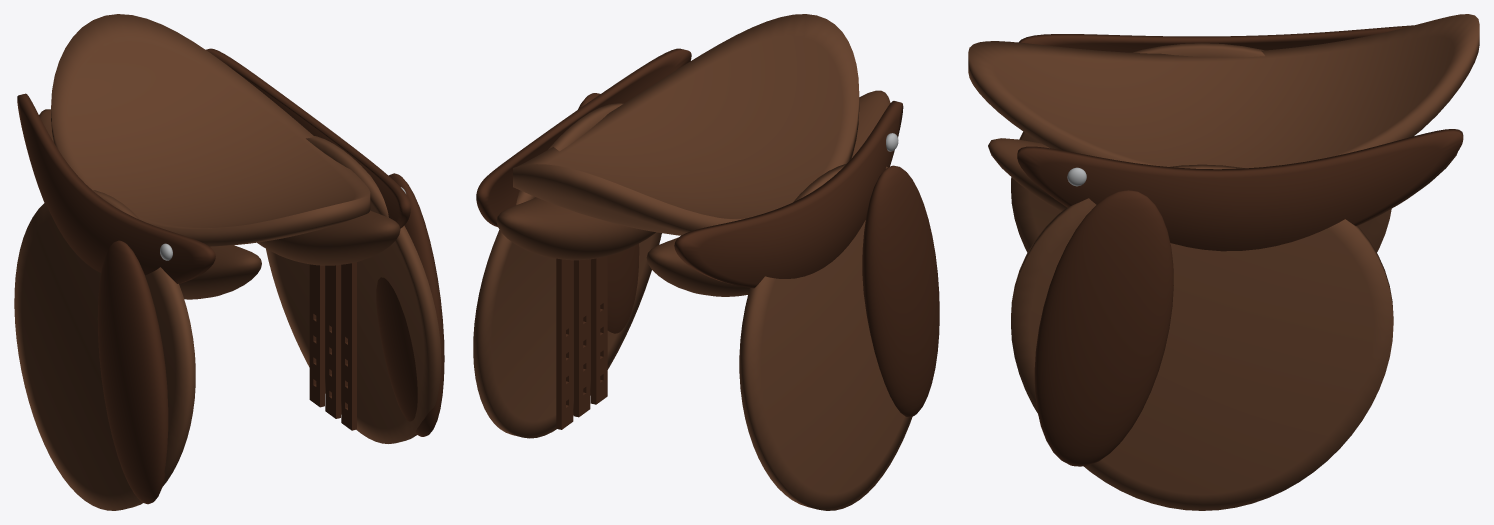
3 views of the same model, side by side, from view 1: azimuth 30°, elevation 25°; view 2: azimuth 150°, elevation 25°; view 3: azimuth 270°, elevation 25° (orthographic). The views are drawn at different scales.
Parts seen in each view (by area): view 1: Curved padded seat with pommel and cantle, Hanging saddle flap -1, Hanging saddle flap 1, Raised front knee roll -1, Upper leather skirt -1, Raised front knee roll 1, Underside padded panel 1, Upper leather skirt 1, Underside padded panel -1, Girth billet 1 0, Girth billet 1 1, Girth billet 1 2; view 2: Curved padded seat with pommel and cantle, Hanging saddle flap -1, Hanging saddle flap 1, Raised front knee roll -1, Upper leather skirt -1, Underside padded panel 1, Upper leather skirt 1, Underside padded panel -1, Girth billet 1 2, Girth billet 1 1, Girth billet 1 0, Raised front knee roll 1; view 3: Hanging saddle flap 1, Curved padded seat with pommel and cantle, Raised front knee roll 1, Upper leather skirt 1, Upper leather skirt -1, Hanging saddle flap -1, Underside padded panel 1.
Part boxes in pixels (box(x1,y1,x2,y2)): Curved padded seat with pommel and cantle: box(51, 14, 370, 246); Hanging saddle flap -1: box(14, 190, 195, 510); Hanging saddle flap 1: box(266, 136, 441, 443); Raised front knee roll -1: box(97, 240, 168, 504); Upper leather skirt -1: box(17, 93, 215, 283); Raised front knee roll 1: box(376, 173, 444, 436); Underside padded panel 1: box(257, 210, 400, 265); Upper leather skirt 1: box(206, 48, 410, 228); Underside padded panel -1: box(39, 109, 261, 299); Girth billet 1 0: box(341, 262, 356, 430); Girth billet 1 1: box(325, 265, 340, 418); Girth billet 1 2: box(309, 264, 324, 407); Curved padded seat with pommel and cantle: box(513, 14, 859, 235); Hanging saddle flap -1: box(739, 163, 912, 510); Hanging saddle flap 1: box(473, 103, 661, 438); Raised front knee roll -1: box(862, 165, 939, 417); Upper leather skirt -1: box(674, 101, 903, 288); Underside padded panel 1: box(496, 197, 655, 260); Upper leather skirt 1: box(476, 48, 691, 226); Underside padded panel -1: box(646, 90, 890, 296); Girth billet 1 2: box(556, 258, 573, 429); Girth billet 1 1: box(573, 259, 590, 417); Girth billet 1 0: box(590, 256, 607, 404); Raised front knee roll 1: box(578, 93, 639, 333); Hanging saddle flap 1: box(1011, 164, 1393, 510); Curved padded seat with pommel and cantle: box(968, 14, 1479, 168); Raised front knee roll 1: box(1034, 190, 1173, 466); Upper leather skirt 1: box(1017, 129, 1463, 251); Upper leather skirt -1: box(1018, 25, 1413, 52); Hanging saddle flap -1: box(1011, 43, 1391, 252); Underside padded panel 1: box(988, 138, 1457, 225).
Size of the model in its own units: 0.374 by 0.413 by 0.47.
